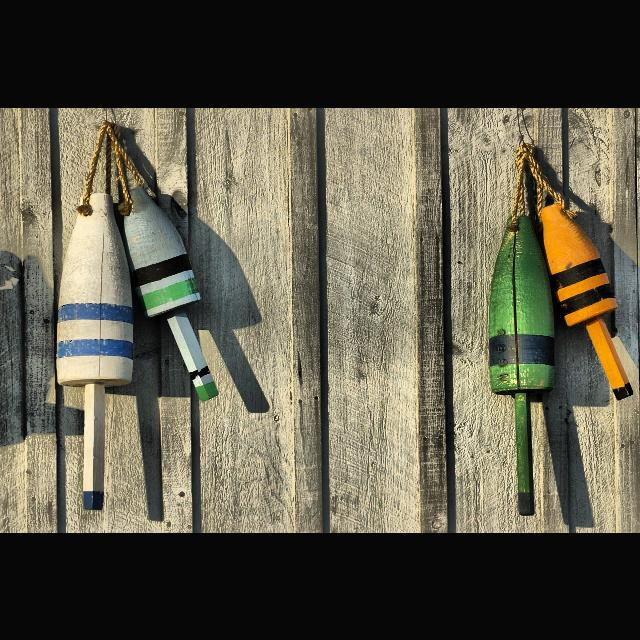buoy: (54, 190, 138, 396), (487, 212, 558, 400), (121, 176, 202, 322), (540, 196, 620, 328)
